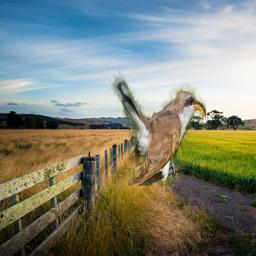Cuckoo: (102, 56, 206, 186)
